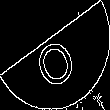O_NW: (29, 22, 81, 88)
